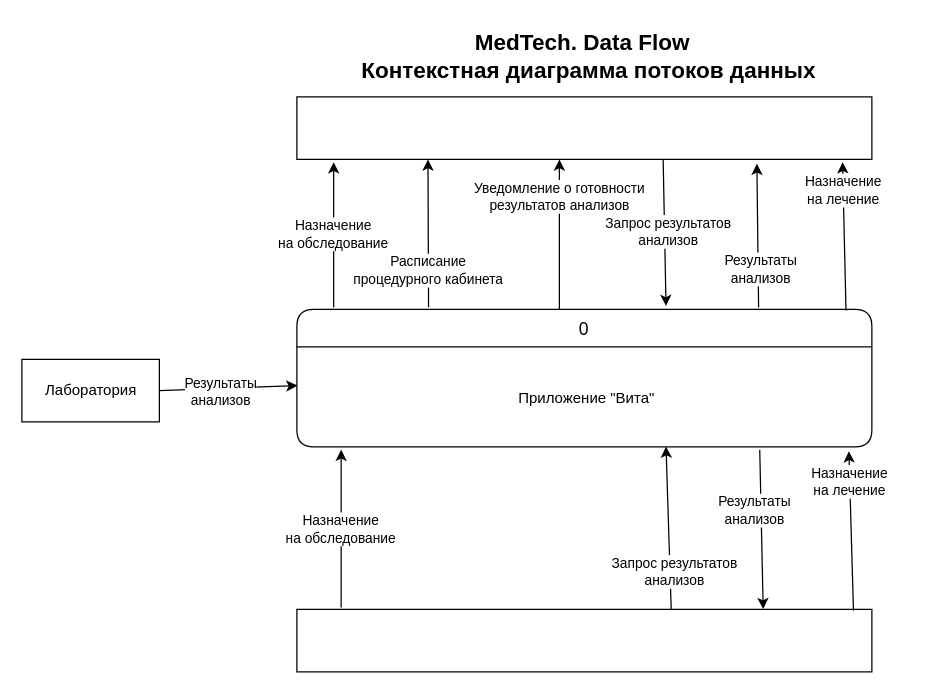
Image size: 944x694. Some labels were removed from this diagram. Here are the shapes that lost their labels. From the top down, the centre of each, then its label:
At point (584, 127): "Пациент".
At point (584, 640): "Врач".
